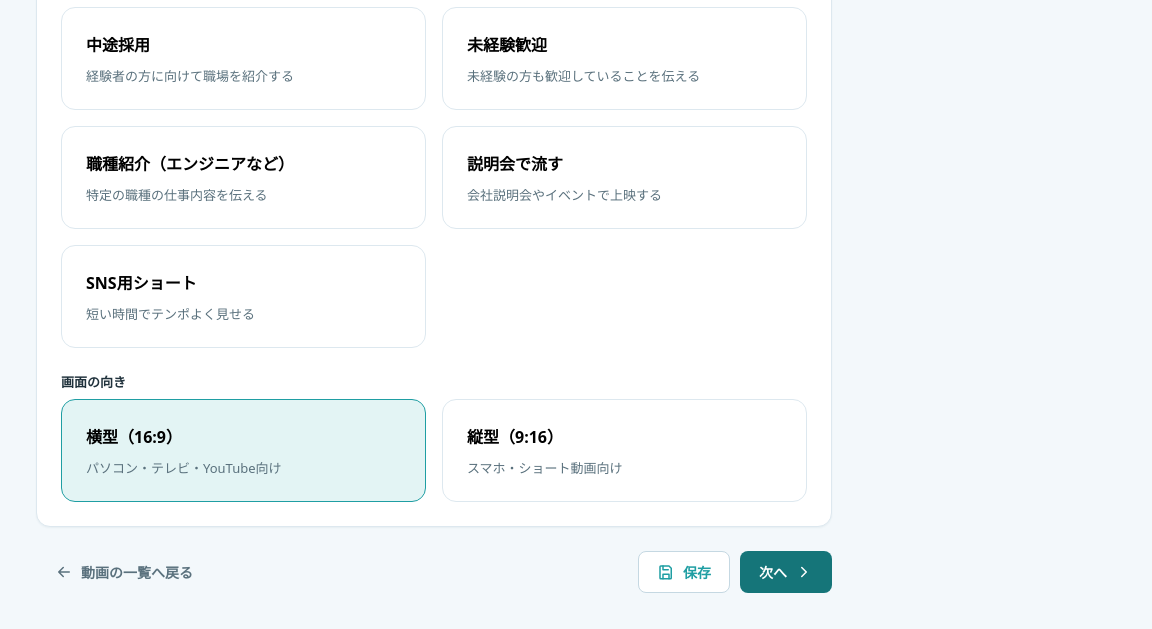
Test: 戻るの行き先名（#1026・`06 §2` 規約3） › 進んだ段では、1つ前の段の名前を言う
(page scrolled)
Step 1. Click the button "次へ" → (786, 572), box [740,551,832,593]
(page scrolled)
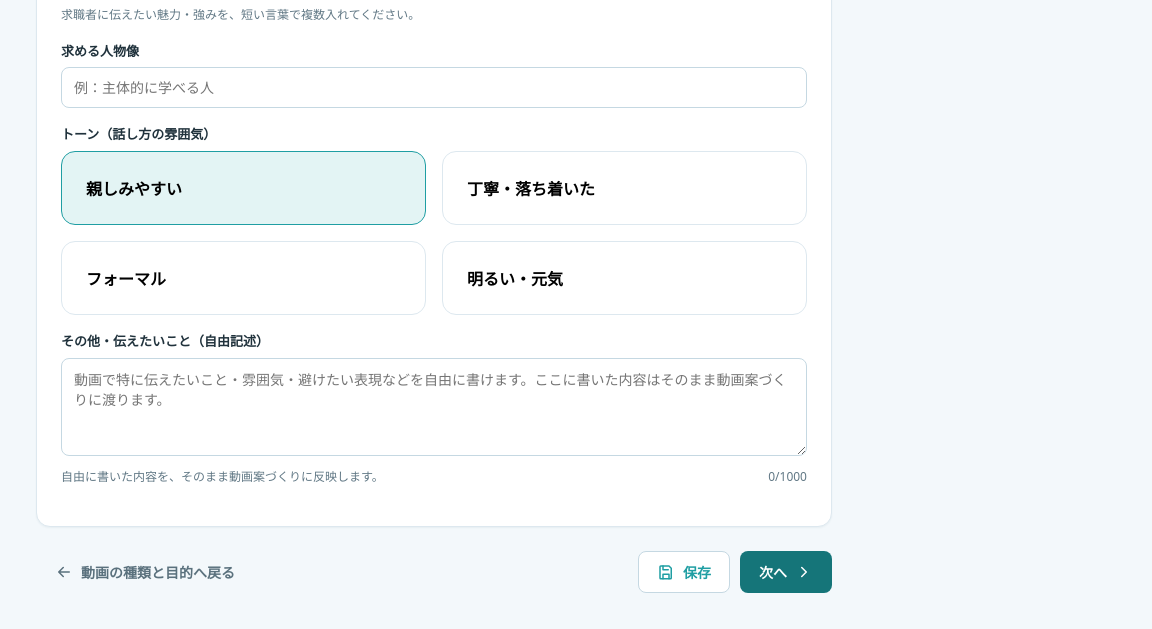
Expected: the button "動画の種類と目的へ戻る" is shown, [36,551,254,593]
